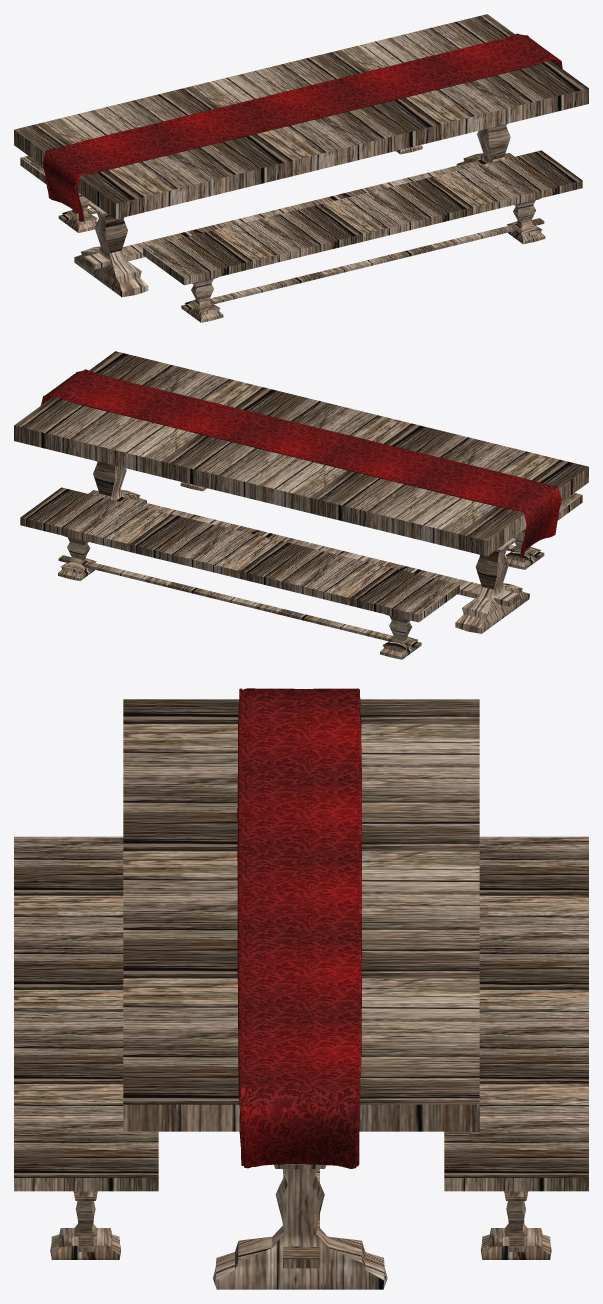
The model's file is tableSet.fbx.
3 views of the same model, one above another, from view 1: azimuth 30°, elevation 25°; view 2: azimuth 150°, elevation 25°; view 3: azimuth 270°, elevation 25° (orthographic). The views are drawn at different scales.
Visible parts, largest first — view 1: pCube8, pCube10, pCube11, pCube9; view 2: pCube8, pCube9, pCube11, pCube10; view 3: pCube8, pCube11, pCube9, pCube10.
Part boxes in pixels (left/top/right/bottom): pCube8: left=14, top=14, right=588, bottom=297; pCube10: left=143, top=150, right=582, bottom=322; pCube11: left=42, top=33, right=562, bottom=221; pCube9: left=20, top=145, right=422, bottom=232; pCube8: left=14, top=351, right=588, bottom=633; pCube9: left=20, top=487, right=459, bottom=659; pCube11: left=40, top=369, right=561, bottom=557; pCube10: left=180, top=482, right=582, bottom=569; pCube8: left=123, top=699, right=479, bottom=1289; pCube11: left=237, top=688, right=361, bottom=1168; pCube9: left=444, top=836, right=588, bottom=1259; pCube10: left=14, top=836, right=158, bottom=1259.
Size of the model in its own units: 11.53 by 2.89 by 6.68.
Materials: 2 (2 with a texture image).
